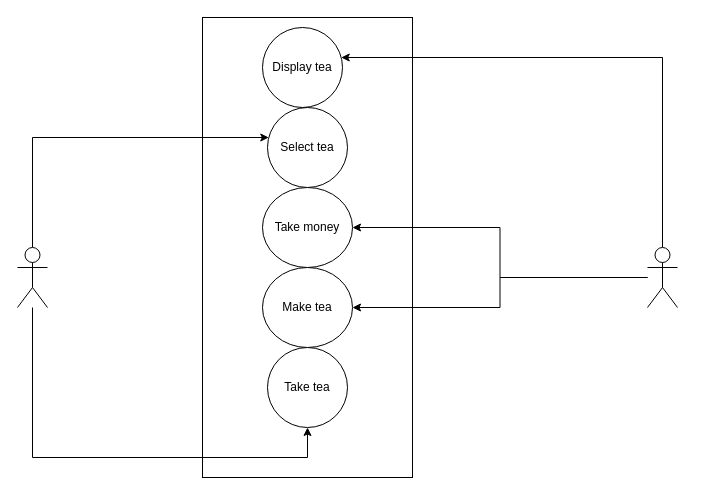
The diagram is 714 pixels wide and 495 high, and some of its shapes have lost their labels. Each missing label, with the centre of its shape:
"Tea-machine" belongs at (662,277).
"User" belongs at (32,277).
